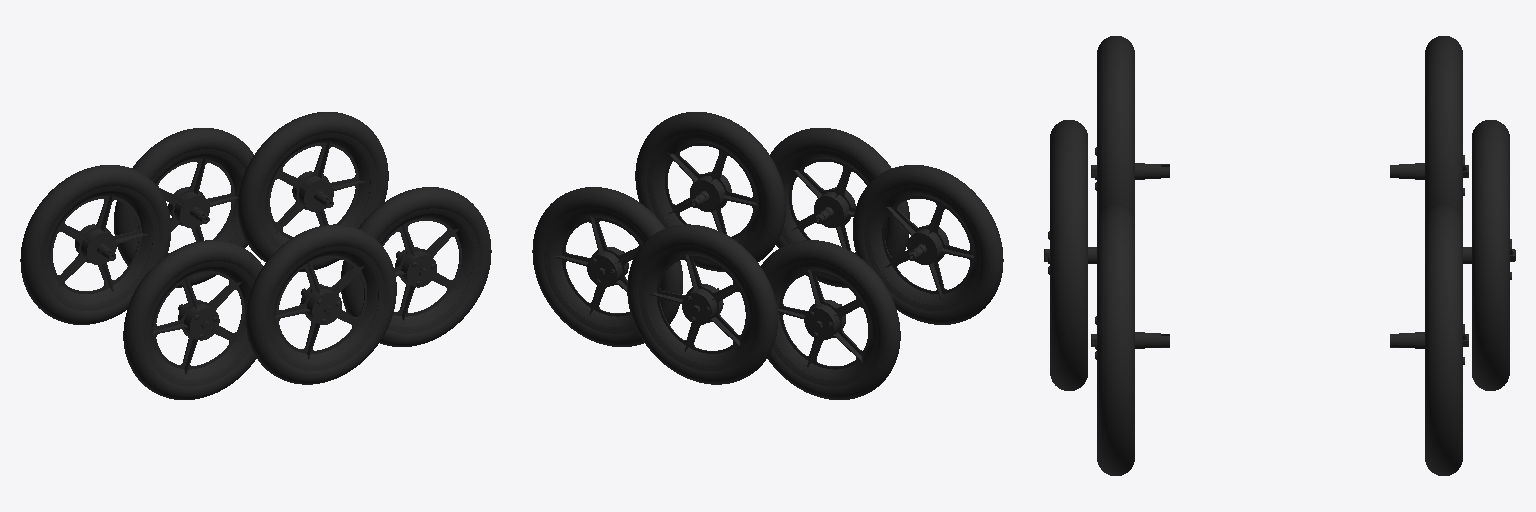
robot.urdf — espeleo:
<?xml version="1.0" ?>

<robot name="espeleo" xmlns:xacro="http://www.ros.org/wiki/xacro">


  <material name="black">
    <color rgba="0.0 0.0 0.0 1.0"/>
  </material>
  <material name="blue">
    <color rgba="0.0 0.0 0.8 1.0"/>
  </material>
  <material name="green">
    <color rgba="0.0 0.8 0.0 1.0"/>
  </material>
  <material name="grey">
    <color rgba="0.2 0.2 0.2 1.0"/>
  </material>
  <material name="orange">
    <color rgba="1.0 0.423529411765 0.0392156862745 1.0"/>
  </material>
  <material name="brown">
    <color rgba="0.870588235294 0.811764705882 0.764705882353 1.0"/>
  </material>
  <material name="red">
    <color rgba="0.8 0.0 0.0 1.0"/>
  </material>
  <material name="white">
    <color rgba="1.0 1.0 1.0 1.0"/>
  </material>

 
  <link name="base_link"/>

  <joint name="base_joint" type="fixed">
    <axis xyz="0 0 0"/>
    <origin rpy="0 0 0" xyz="0 0 .15 "/>
    <parent link="base_link"/>
    <child link="chassis"/>
  </joint>


  <link name="chassis">
    <collision>
      <origin rpy="0 0 0" xyz="0 0 0"/>
      <geometry>
        <box size="0.54 0.27 0.145"/>
      </geometry>
    </collision>
    <visual>
      <origin rpy="-1.57079632679 0 0" xyz="-0.283 -0.23 0.0725"/>
      <geometry>
        <mesh filename="package://espeleo_description/urdf/stl/Espeleo-22.STL" scale="0.001 0.001 0.001"/>
      </geometry>
      <material name="white"/>
    </visual>
    <inertial>
      <origin rpy="0 0 0" xyz="0 0 0.15"/>
      <mass value="0.5"/>
      <inertia ixx="0.01215" ixy="0" ixz="0" iyy="0.0030375" iyz="0" izz="0.0151875"/>
    </inertial>
  </link>



  <link name="left_front_wheel">
    <collision>
      <origin rpy="1.57079632679 0 0" xyz="0 0 0"/>
      <geometry>
        <cylinder length="0.043" radius="0.14"/>
      </geometry>
    </collision>
    <visual>
      <origin rpy="0 0 0" xyz="0 0 0"/>
      <geometry>
        <mesh filename="package://espeleo_description/urdf/stl/roda_esquerda.stl"/>
      </geometry>
      <material name="grey"/>
    </visual>
    <inertial>
      <origin rpy="1.57079632679 0 0 " xyz="0 0 0"/>
      <mass value="0.2"/>
      <inertia ixx="0.00101081666667" ixy="0" ixz="0" iyy="0.00101081666667" iyz="0" izz="0.00196"/>
    </inertial>
  </link>
  
  <joint name="left_front_wheel_joint" type="revolute">
    <parent link="chassis"/>
    <child link="left_front_wheel"/>
    <origin rpy="0 0 0" xyz="0.215 0.175 -0.01"/>
    <axis rpy="0 0 0" xyz="0 1 0"/>
    <limit command_effort="100" current="10" effort="80" gear_velocity="10" lower="-9.42" upper="9.42" velocity="15"/>   
    <joint_properties damping="0.0" friction="0.0"/>
  </joint>
  <transmission name="left_front_trans">
    <type>transmission_interface/SimpleTransmission</type>
    <joint name="left_front_wheel_joint">
      <hardwareInterface>EffortJointInterface</hardwareInterface>
    </joint>
    <actuator name="left_frontMotor">
      <hardwareInterface>EffortJointInterface</hardwareInterface>
      <mechanicalReduction>10</mechanicalReduction>
    </actuator>
  </transmission>



  <link name="left_middle_wheel">
    <collision>
      <origin rpy="1.57079632679 0 0" xyz="0 0 0"/>
      <geometry>
        <cylinder length="0.043" radius="0.14"/>
      </geometry>
    </collision>
    <visual>
      <origin rpy="0 0 0" xyz="0 0 0"/>
      <geometry>
        <mesh filename="package://espeleo_description/urdf/stl/roda_esquerda.stl"/>
      </geometry>
      <material name="grey"/>
    </visual>
    <inertial>
      <origin rpy="1.57079632679 0 0 " xyz="0 0 0"/>
      <mass value="0.2"/>
      <inertia ixx="0.00101081666667" ixy="0" ixz="0" iyy="0.00101081666667" iyz="0" izz="0.00196"/>
    </inertial>
  </link>
  <joint name="left_middle_wheel_joint" type="revolute">
    <parent link="chassis"/>
    <child link="left_middle_wheel"/>
    <origin rpy="0 0 0" xyz="0.0 0.225 -0.01"/>
    <axis rpy="0 0 0" xyz="0 1 0"/>
    <limit command_effort="100" current="10" effort="80" gear_velocity="10" lower="-9.42" upper="9.42" velocity="15"/> 
    <joint_properties damping="0.0" friction="0.0"/>
  </joint>
  <transmission name="left_middle_trans">
    <type>transmission_interface/SimpleTransmission</type>
    <joint name="left_middle_wheel_joint">
      <hardwareInterface>EffortJointInterface</hardwareInterface>
    </joint>
    <actuator name="left_middleMotor">
      <hardwareInterface>EffortJointInterface</hardwareInterface>
      <mechanicalReduction>10</mechanicalReduction>
    </actuator>
  </transmission>

  <link name="left_back_wheel">
    <collision>
      <origin rpy="1.57079632679 0 0" xyz="0 0 0"/>
      <geometry>
        <cylinder length="0.043" radius="0.14"/>
      </geometry>
    </collision>
    <visual>
      <origin rpy="0 0 0" xyz="0 0 0"/>
      <geometry>
        <mesh filename="package://espeleo_description/urdf/stl/roda_esquerda.stl"/>
      </geometry>
      <material name="grey"/>
    </visual>
    <inertial>
      <origin rpy="1.57079632679 0 0 " xyz="0 0 0"/>
      <mass value="0.2"/>
      <inertia ixx="0.00101081666667" ixy="0" ixz="0" iyy="0.00101081666667" iyz="0" izz="0.00196"/>
    </inertial>
  </link>
  
  <joint name="left_back_wheel_joint" type="revolute">
    <parent link="chassis"/>
    <child link="left_back_wheel"/>
    <origin rpy="0 0 0" xyz="-0.212 0.175 -0.01"/>
    <axis rpy="0 0 0" xyz="0 1 0"/>
    <limit command_effort="100" current="10" effort="80" gear_velocity="10" lower="-9.42" upper="9.42" velocity="15"/> 
    <joint_properties damping="0.0" friction="0.0"/>
  </joint>
  <transmission name="left_back_trans">
    <type>transmission_interface/SimpleTransmission</type>
    <joint name="left_back_wheel_joint">
      <hardwareInterface>EffortJointInterface</hardwareInterface>
    </joint>
    <actuator name="left_backMotor">
      <hardwareInterface>EffortJointInterface</hardwareInterface>
      <mechanicalReduction>10</mechanicalReduction>
    </actuator>
  </transmission>
  <link name="right_front_wheel">
    <collision>
      <origin rpy="1.57079632679 0 0" xyz="0 0 0"/>
      <geometry>
        <cylinder length="0.043" radius="0.14"/>
      </geometry>
    </collision>
    <visual>
      <origin rpy="3.1415 0 3.14159265359" xyz="0 0 0"/>
      <geometry>
        <mesh filename="package://espeleo_description/urdf/stl/roda_esquerda.stl"/>
      </geometry>
      <material name="grey"/>
    </visual>
    <inertial>
      <origin rpy="1.57079632679 0 0 " xyz="0 0 0"/>
      <mass value="0.2"/>
      <inertia ixx="0.00101081666667" ixy="0" ixz="0" iyy="0.00101081666667" iyz="0" izz="0.00196"/>
    </inertial>
  </link>
  
  <joint name="right_front_wheel_joint" type="revolute">
    <parent link="chassis"/>
    <child link="right_front_wheel"/>
    <origin rpy="3.1415 0 0" xyz="0.215 -0.175 -0.01"/>
    <axis rpy="0 0 0" xyz="0 1 0"/>
    <limit command_effort="100" current="10" effort="80" gear_velocity="10" lower="-9.42" upper="9.42" velocity="15"/> 
    <joint_properties damping="0.0" friction="0.0"/>
  </joint>
  <transmission name="right_front_trans">
    <type>transmission_interface/SimpleTransmission</type>
    <joint name="right_front_wheel_joint">
      <hardwareInterface>EffortJointInterface</hardwareInterface>
    </joint>
    <actuator name="right_frontMotor">
      <hardwareInterface>EffortJointInterface</hardwareInterface>
      <mechanicalReduction>10</mechanicalReduction>
    </actuator>
  </transmission>
  <link name="right_middle_wheel">
    <collision>
      <origin rpy="1.57079632679 0 0" xyz="0 0 0"/>
      <geometry>
        <cylinder length="0.043" radius="0.14"/>
      </geometry>
    </collision>
    <visual>
      <origin rpy="3.1415 0 3.14159265359" xyz="0 0 0"/>
      <geometry>
        <mesh filename="package://espeleo_description/urdf/stl/roda_esquerda.stl"/>
      </geometry>
      <material name="grey"/>
    </visual>
    <inertial>
      <origin rpy="1.57079632679 0 0 " xyz="0 0 0"/>
      <mass value="0.2"/>
      <inertia ixx="0.00101081666667" ixy="0" ixz="0" iyy="0.00101081666667" iyz="0" izz="0.00196"/>
    </inertial>
  </link>
  
  <joint name="right_middle_wheel_joint" type="revolute">
    <parent link="chassis"/>
    <child link="right_middle_wheel"/>
    <origin rpy="3.1415 0 0" xyz="0.0 -0.225 -0.01"/>
    <axis rpy="0 0 0" xyz="0 1 0"/>
    <limit command_effort="100" current="10" effort="80" gear_velocity="10" lower="-9.42" upper="9.42" velocity="15"/> 
    <joint_properties damping="0.0" friction="0.0"/>
  </joint>
  <transmission name="right_middle_trans">
    <type>transmission_interface/SimpleTransmission</type>
    <joint name="right_middle_wheel_joint">
      <hardwareInterface>EffortJointInterface</hardwareInterface>
    </joint>
    <actuator name="right_middleMotor">
      <hardwareInterface>EffortJointInterface</hardwareInterface>
      <mechanicalReduction>10</mechanicalReduction>
    </actuator>
  </transmission>
  <link name="right_back_wheel">
    <collision>
      <origin rpy="1.57079632679 0 0" xyz="0 0 0"/>
      <geometry>
        <cylinder length="0.043" radius="0.14"/>
      </geometry>
    </collision>
    <visual>
      <origin rpy="3.1415 0 3.14159265359" xyz="0 0 0"/>
      <geometry>
        <mesh filename="package://espeleo_description/urdf/stl/roda_esquerda.stl"/>
      </geometry>
      <material name="grey"/>
    </visual>
    <inertial>
      <origin rpy="1.57079632679 0 0 " xyz="0 0 0"/>
      <mass value="0.2"/>
      <inertia ixx="0.00101081666667" ixy="0" ixz="0" iyy="0.00101081666667" iyz="0" izz="0.00196"/>
    </inertial>
  </link>
  
  <joint name="right_back_wheel_joint" type="revolute">
    <parent link="chassis"/>
    <child link="right_back_wheel"/>
    <origin rpy="3.1415 0 0" xyz="-0.212 -0.175 -0.01"/>
    <axis rpy="0 0 0" xyz="0 1 0"/>
    <limit command_effort="100" current="10" effort="80" gear_velocity="10" lower="-9.42" upper="9.42" velocity="15"/> 
    <joint_properties damping="0.0" friction="0.0"/>
  </joint>
  <transmission name="right_back_trans">
    <type>transmission_interface/SimpleTransmission</type>
    <joint name="right_back_wheel_joint">
      <hardwareInterface>EffortJointInterface</hardwareInterface>
    </joint>
    <actuator name="right_backMotor">
      <hardwareInterface>EffortJointInterface</hardwareInterface>
      <mechanicalReduction>10</mechanicalReduction>
    </actuator>
  </transmission>




</robot>

--- What the picture shows (computed from the rendered views, not written in the file) ---
Views: 3 orthographic renders of the robot side by side, from view 1: azimuth 30°, elevation 25°; view 2: azimuth 150°, elevation 25°; view 3: azimuth 270°, elevation 25°.
Robot: espeleo — 8 links, 7 joints (6 revolute, 1 fixed); root link base_link; default pose: all joints at 0.
Visible links, largest first — view 1: right_middle_wheel, left_back_wheel, right_back_wheel, left_front_wheel, right_front_wheel, left_middle_wheel; view 2: left_middle_wheel, right_back_wheel, left_back_wheel, right_front_wheel, left_front_wheel, right_middle_wheel; view 3: right_front_wheel, left_front_wheel, right_middle_wheel, left_middle_wheel, right_back_wheel, left_back_wheel.
Boxes of the visible links, x1,y1,x2,y2 form: right_middle_wheel: (246, 224, 396, 384); left_back_wheel: (20, 165, 170, 324); right_back_wheel: (123, 240, 262, 399); left_front_wheel: (238, 112, 388, 271); right_front_wheel: (341, 187, 491, 346); left_middle_wheel: (114, 128, 253, 287); left_middle_wheel: (627, 224, 777, 384); right_back_wheel: (853, 165, 1003, 324); left_back_wheel: (761, 240, 900, 399); right_front_wheel: (635, 112, 785, 271); left_front_wheel: (532, 187, 682, 346); right_middle_wheel: (770, 128, 909, 287); right_front_wheel: (1091, 205, 1169, 475); left_front_wheel: (1390, 205, 1468, 475); right_middle_wheel: (1044, 120, 1096, 390); left_middle_wheel: (1463, 120, 1515, 390); right_back_wheel: (1091, 36, 1169, 218); left_back_wheel: (1390, 36, 1468, 218).
Bounding box of the posed robot: 0.717 × 0.5028 × 0.29 m (x, y, z).
6 mesh visuals loaded from 2 distinct referenced files (1 binary STL); not drawn: 1 (reference not matched to a file when rendering).